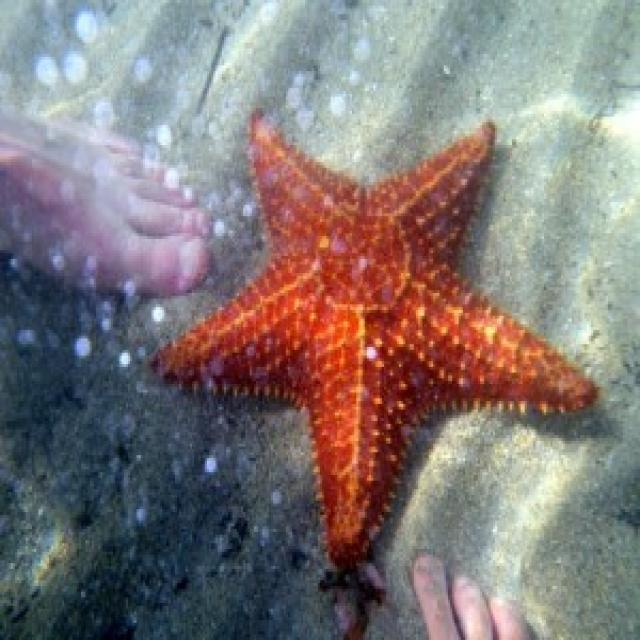Starfish: (216, 101, 602, 551)
